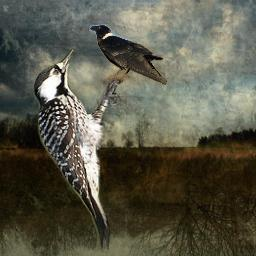Crow: (89, 23, 167, 85)
Woodpecker: (33, 49, 127, 253)
